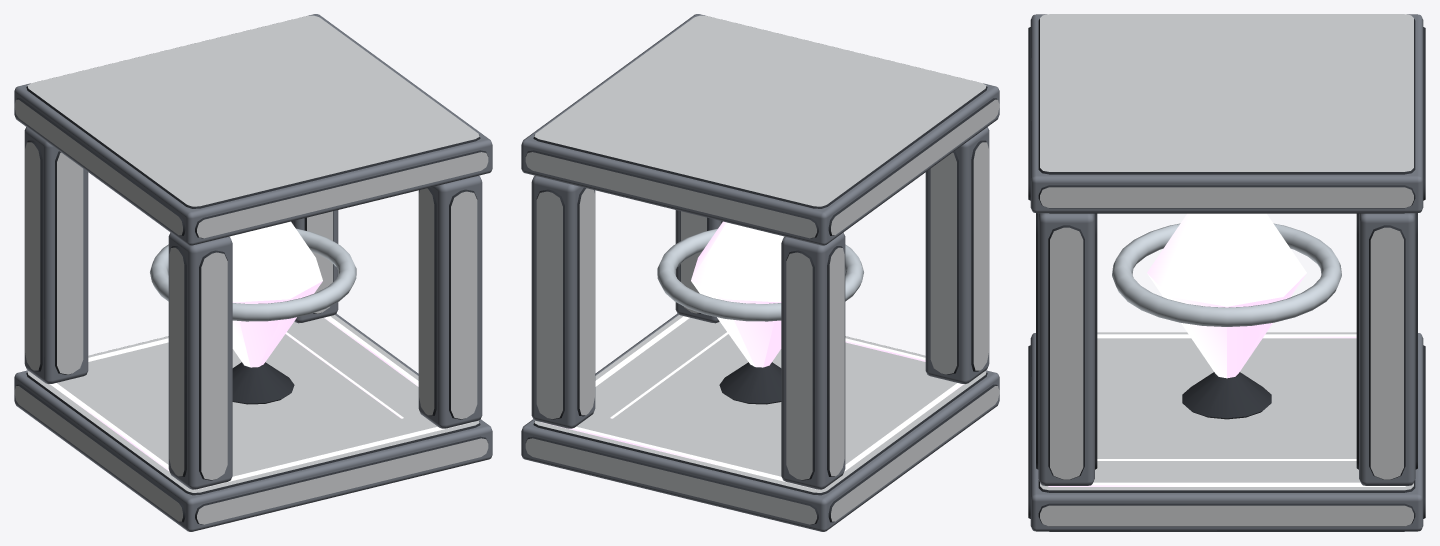
The model's file is R4X_CoreBooster.fbx.
3 renders of one model, left to right at view 1: azimuth 30°, elevation 25°; view 2: azimuth 150°, elevation 25°; view 3: azimuth 270°, elevation 25°, orthographic. The views are drawn at different scales.
Parts seen in each view (by area): view 1: R4X_CoreBooster_Body; view 2: R4X_CoreBooster_Body; view 3: R4X_CoreBooster_Body.
Part boxes in pixels (box(x1,y1,x2,y2)): R4X_CoreBooster_Body: box(14, 14, 492, 531); R4X_CoreBooster_Body: box(521, 14, 999, 531); R4X_CoreBooster_Body: box(1028, 14, 1425, 531).
Size of the model in its own units: 0.52 by 0.52 by 0.52.
